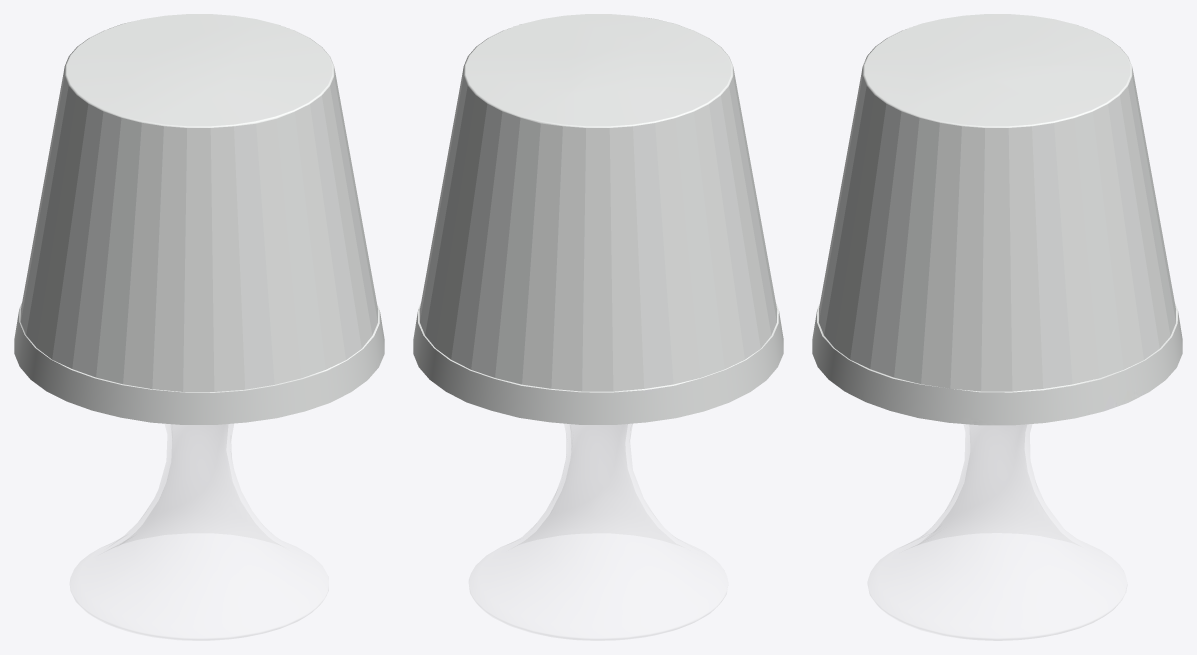
The model's file is lampan_przenosna_lampa_led_60594606.glb.
The picture shows the model from 3 angles, left to right: view 1: azimuth 30°, elevation 25°; view 2: azimuth 150°, elevation 25°; view 3: azimuth 270°, elevation 25°; orthographic projection.
Visible parts, largest first — view 1: lampan_przenosna_lampa_led_60594606; view 2: lampan_przenosna_lampa_led_60594606; view 3: lampan_przenosna_lampa_led_60594606.
Boxes of the visible parts, x1=… form: lampan_przenosna_lampa_led_60594606: x1=14, y1=14, x2=384, y2=555; lampan_przenosna_lampa_led_60594606: x1=413, y1=14, x2=783, y2=554; lampan_przenosna_lampa_led_60594606: x1=812, y1=14, x2=1182, y2=553.
Size of the model in its own units: 0.1532 by 0.2374 by 0.1532.
2 materials, 2 textured.
